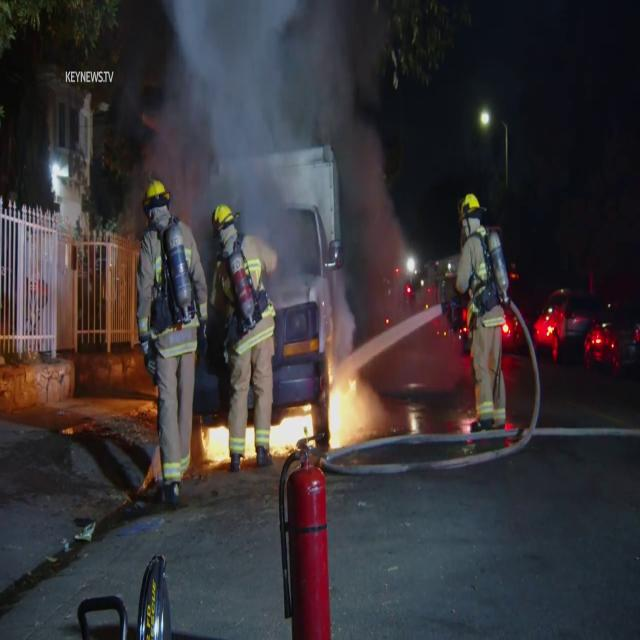Fire: (195, 414, 258, 470), (266, 399, 316, 460), (325, 366, 357, 450)
Smoke: (133, 0, 394, 268)
